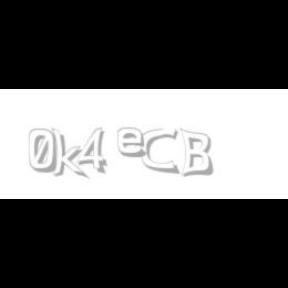0: (29, 128, 60, 174)
4: (76, 128, 107, 174)
B: (179, 128, 213, 178)
C: (142, 128, 179, 174)
e: (118, 128, 150, 158)
k: (51, 128, 89, 180)
